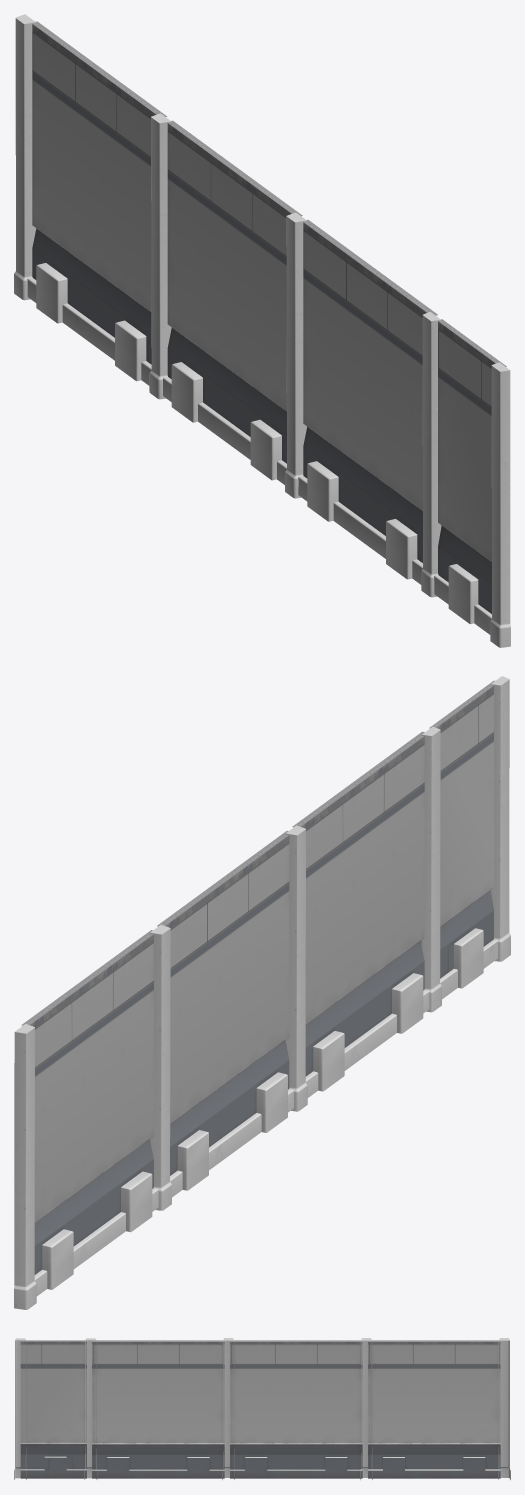
The model's file is Pfb_JALB_WallPart2_Line__22.fbx.
3 views of the same model, one above another, from view 1: azimuth 30°, elevation 25°; view 2: azimuth 150°, elevation 25°; view 3: azimuth 270°, elevation 25° (orthographic). The views are drawn at different scales.
Parts seen in each view (by area): view 1: MAT_JLABWall; view 2: MAT_JLABWall; view 3: MAT_JLABWall.
Boxes of the visible parts, box(x1,y1,x2,y2) form: MAT_JLABWall: box(14, 14, 510, 647); MAT_JLABWall: box(14, 676, 510, 1309); MAT_JLABWall: box(14, 1338, 510, 1480).
Bounding box in the file's own units: 0.2513 × 4.04 × 12.97.
1 material, 1 textured.
